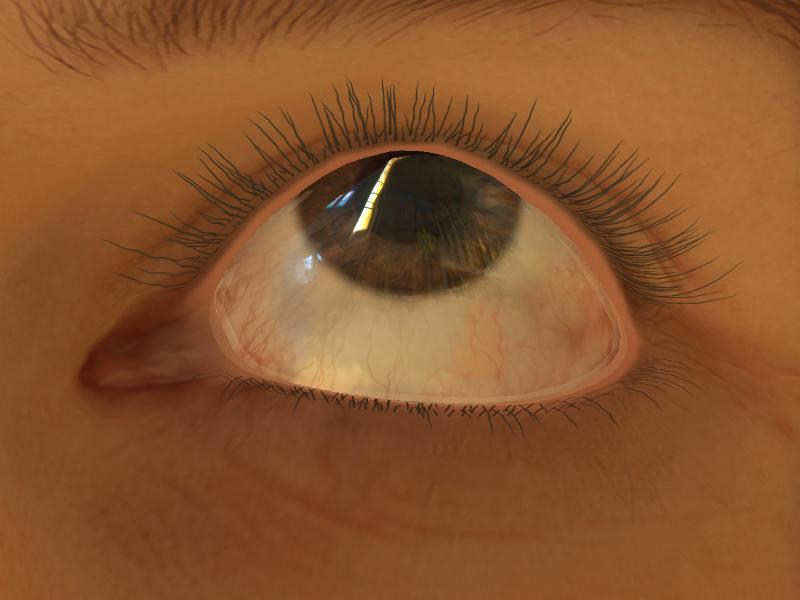eye: (296, 145, 523, 301)
